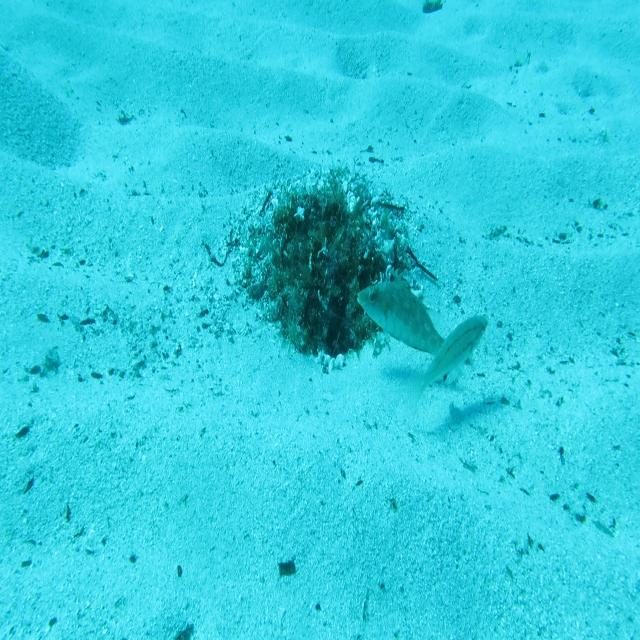MAF: (355, 266, 445, 358)
core_nest: (299, 201, 346, 254)
female: (404, 312, 490, 414)
nest: (220, 141, 442, 395)
vegetation: (276, 554, 300, 581), (419, 0, 443, 18)
